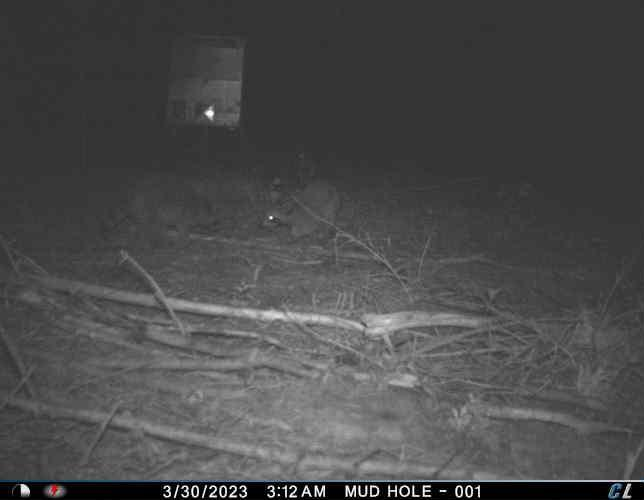Raccoon: (98, 171, 219, 246), (258, 181, 344, 250)
